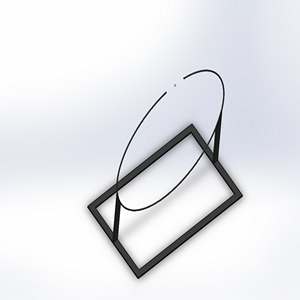circle: (88, 66, 244, 279)
